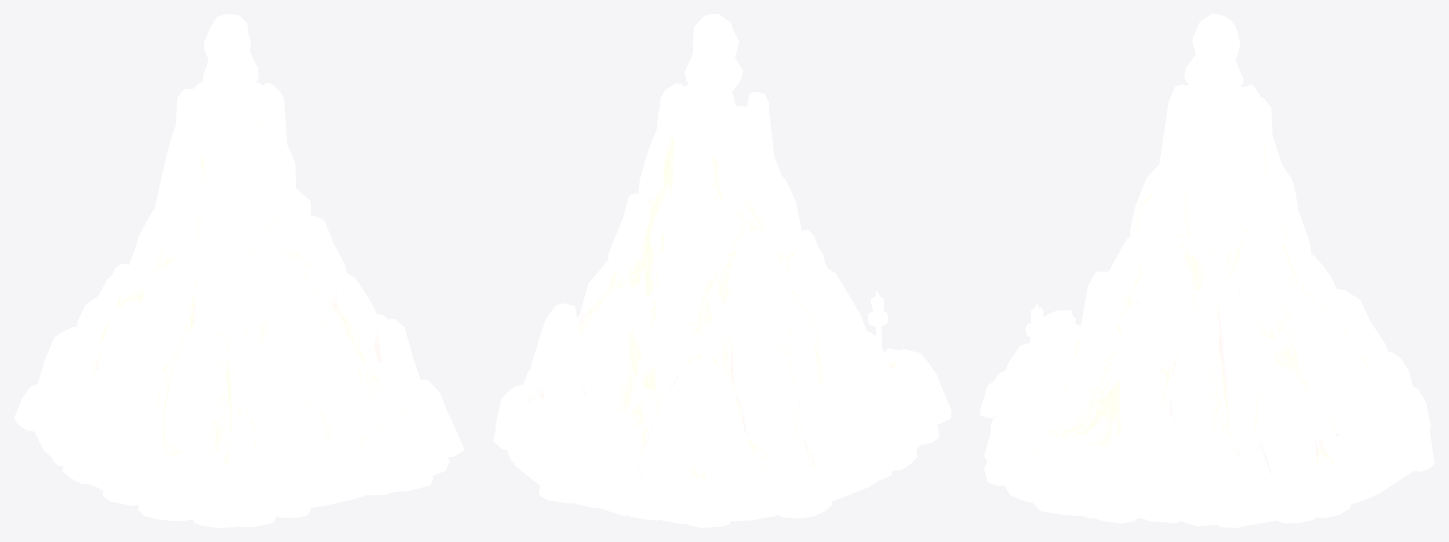
Rendered from montanha-lava.glb.
3 views of the same model, side by side, from view 1: azimuth 30°, elevation 25°; view 2: azimuth 150°, elevation 25°; view 3: azimuth 270°, elevation 25° (orthographic). The views are drawn at different scales.
Parts seen in each view (by area): view 1: mesh_node; view 2: mesh_node; view 3: mesh_node.
Part boxes in pixels (x1=…): mesh_node: x1=14, y1=14, x2=464, y2=527; mesh_node: x1=493, y1=14, x2=951, y2=527; mesh_node: x1=980, y1=14, x2=1434, y2=527.
Size of the model in its own units: 0.8984 by 1 by 0.9668.
1 material, 1 textured.
